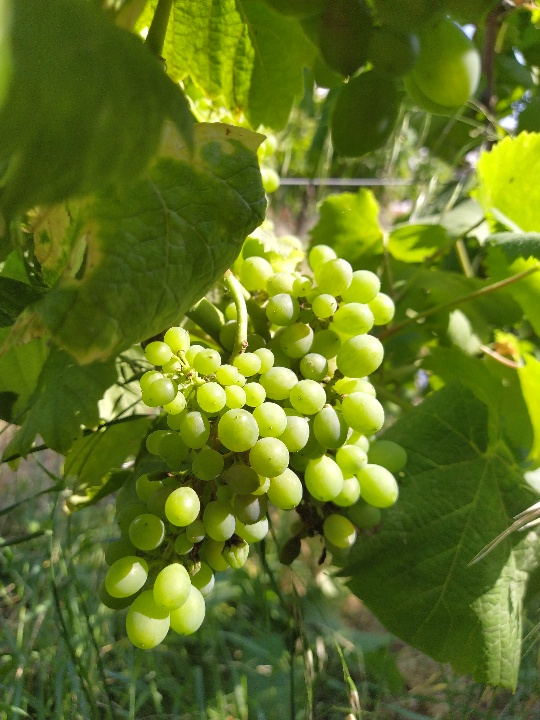grape: (95, 240, 411, 653)
